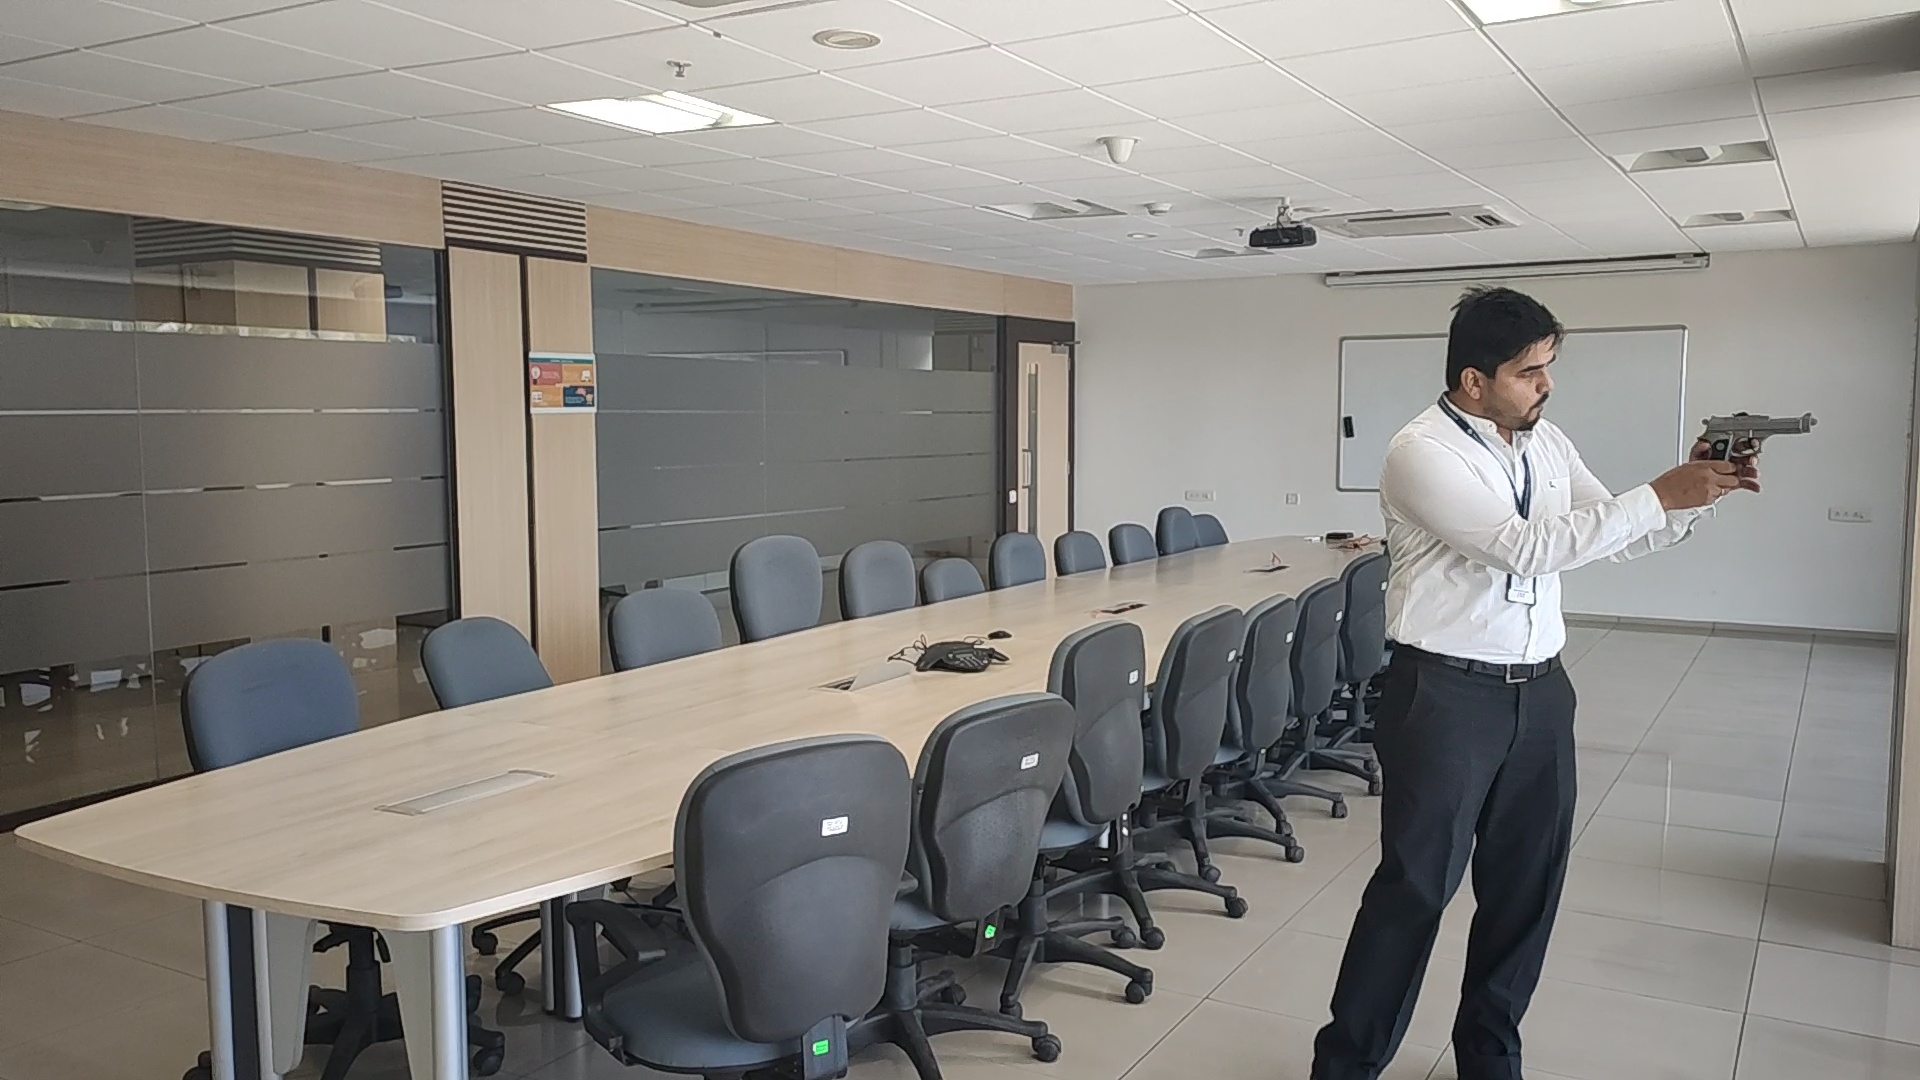gun: (1698, 411, 1818, 455)
